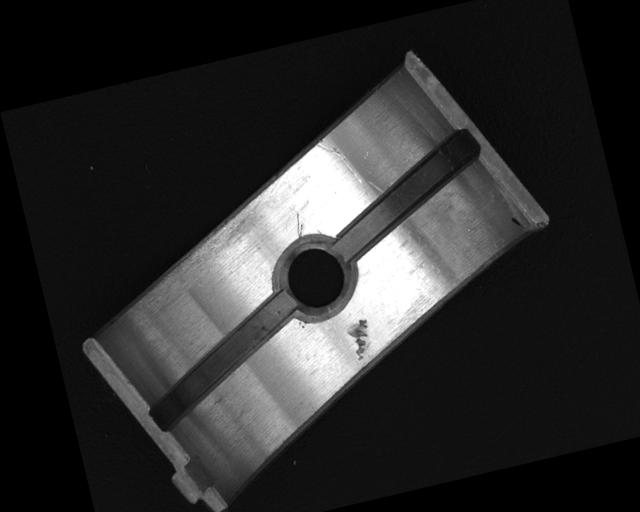blot: (509, 214, 527, 232)
bruise: (347, 317, 376, 361)
gap: (131, 288, 317, 431), (315, 128, 494, 261)
hole: (267, 232, 363, 326)
nick: (315, 133, 365, 194), (292, 211, 307, 238)
scratch: (119, 198, 280, 316)
